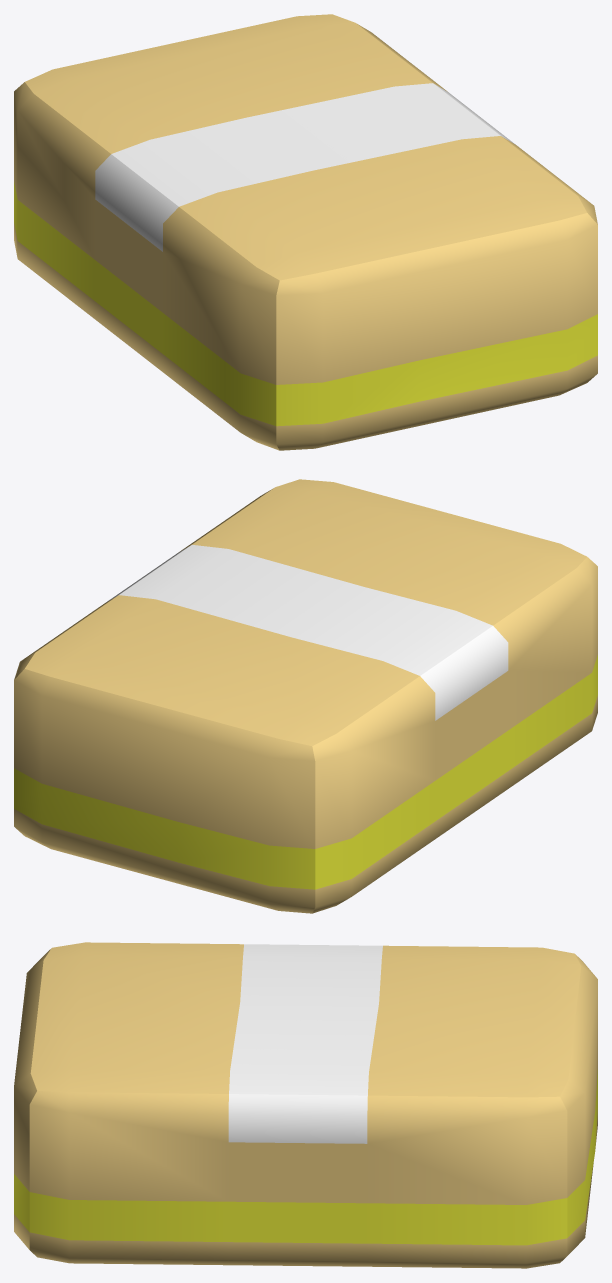
Rendered from Props_Box_Yellow_04.fbx.
3 views of the same model, one above another, from view 1: azimuth 30°, elevation 25°; view 2: azimuth 150°, elevation 25°; view 3: azimuth 270°, elevation 25° (orthographic). The views are drawn at different scales.
Visible parts, largest first — view 1: Props_Box_Yellow_04; view 2: Props_Box_Yellow_04; view 3: Props_Box_Yellow_04.
Part boxes in pixels (x1=…): Props_Box_Yellow_04: x1=14, y1=14, x2=597, y2=450; Props_Box_Yellow_04: x1=14, y1=479, x2=597, y2=913; Props_Box_Yellow_04: x1=14, y1=942, x2=597, y2=1268.
Bounding box in the file's own units: 36.84 × 18.37 × 53.48.
